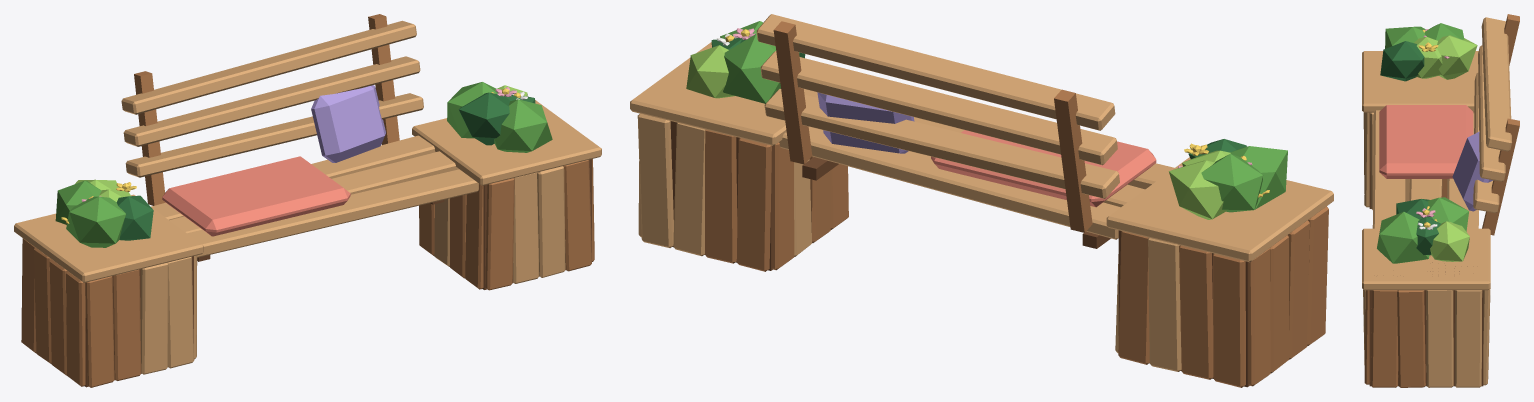
Rendered from planter_bench.glb.
3 views of the same model, side by side, from view 1: azimuth 30°, elevation 25°; view 2: azimuth 150°, elevation 25°; view 3: azimuth 270°, elevation 25° (orthographic). The views are drawn at different scales.
Parts seen in each view (by area): view 1: Planter Bench; view 2: Planter Bench; view 3: Planter Bench.
Part boxes in pixels (x1,y1,x2,y2): Planter Bench: [14, 14, 601, 387]; Planter Bench: [630, 14, 1333, 387]; Planter Bench: [1362, 14, 1519, 387].
Size of the model in its own units: 2.22 by 0.9156 by 0.6384.
Materials: 1 (1 with a texture image).
